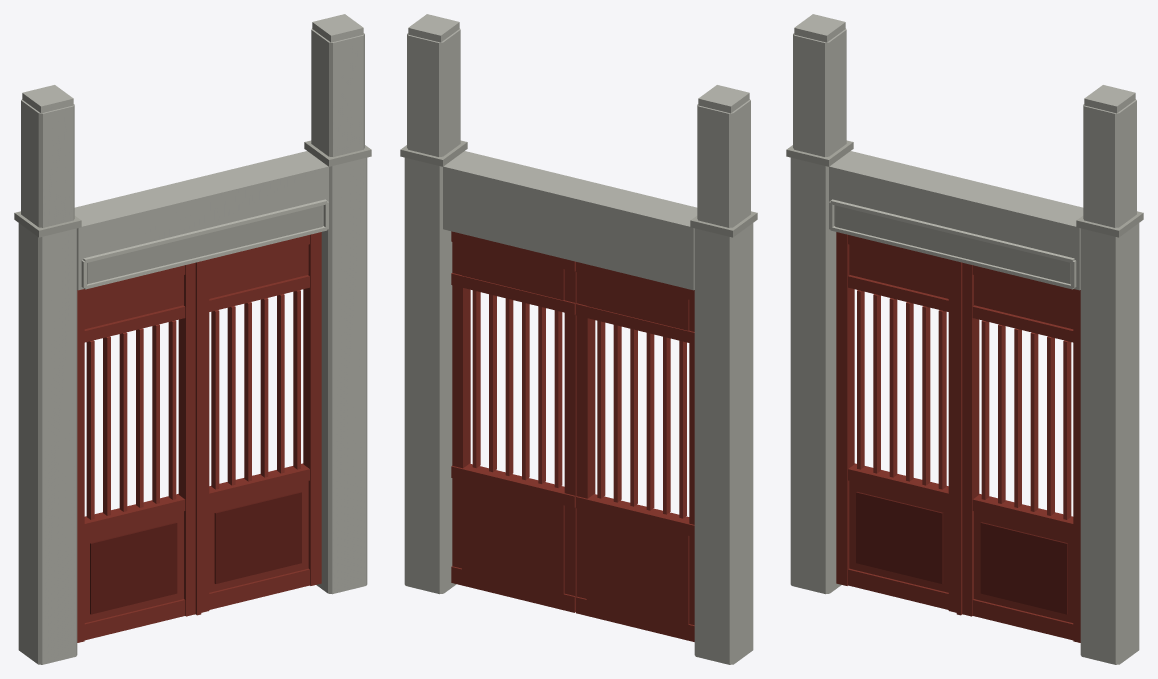
The model's file is chongming-lingxing-photo-right-gate-lod.glb.
3 views of the same model, side by side, from view 1: azimuth 30°, elevation 25°; view 2: azimuth 150°, elevation 25°; view 3: azimuth 330°, elevation 25° (orthographic).
Size of the model in its own units: 3.05 by 4.88 by 0.407.
